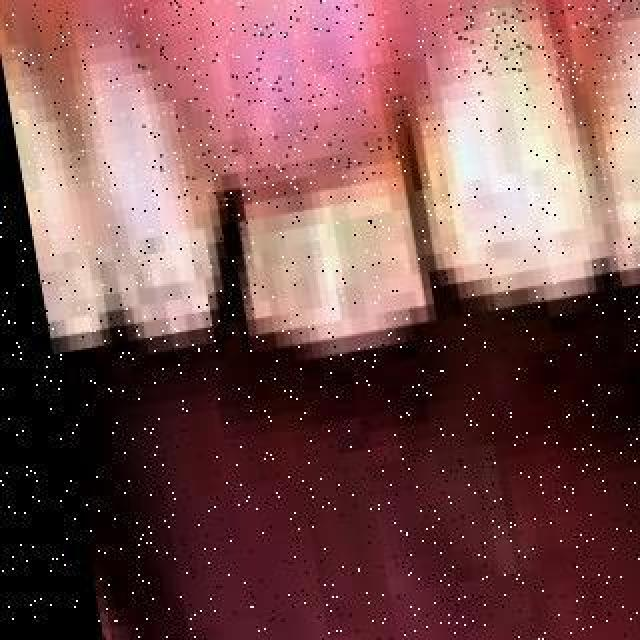spacing: (385, 100, 477, 304), (195, 175, 277, 319)
